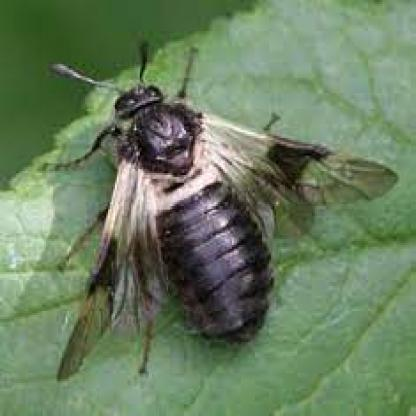sawfly: (45, 40, 402, 383)
